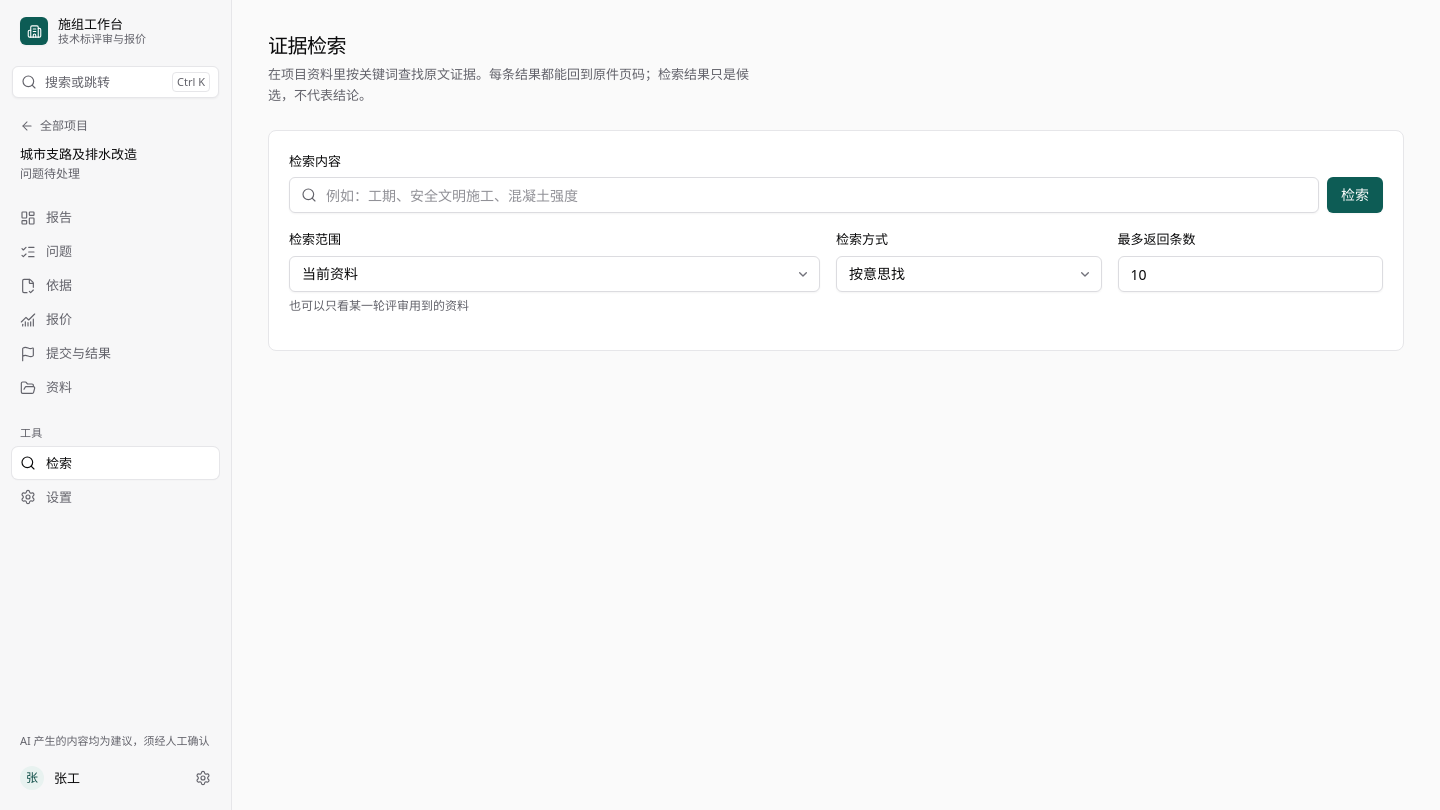
it: 证据检索页 › 空检索内容不发请求
Click the button "检索": (1355, 195) [1327,177,1383,213]
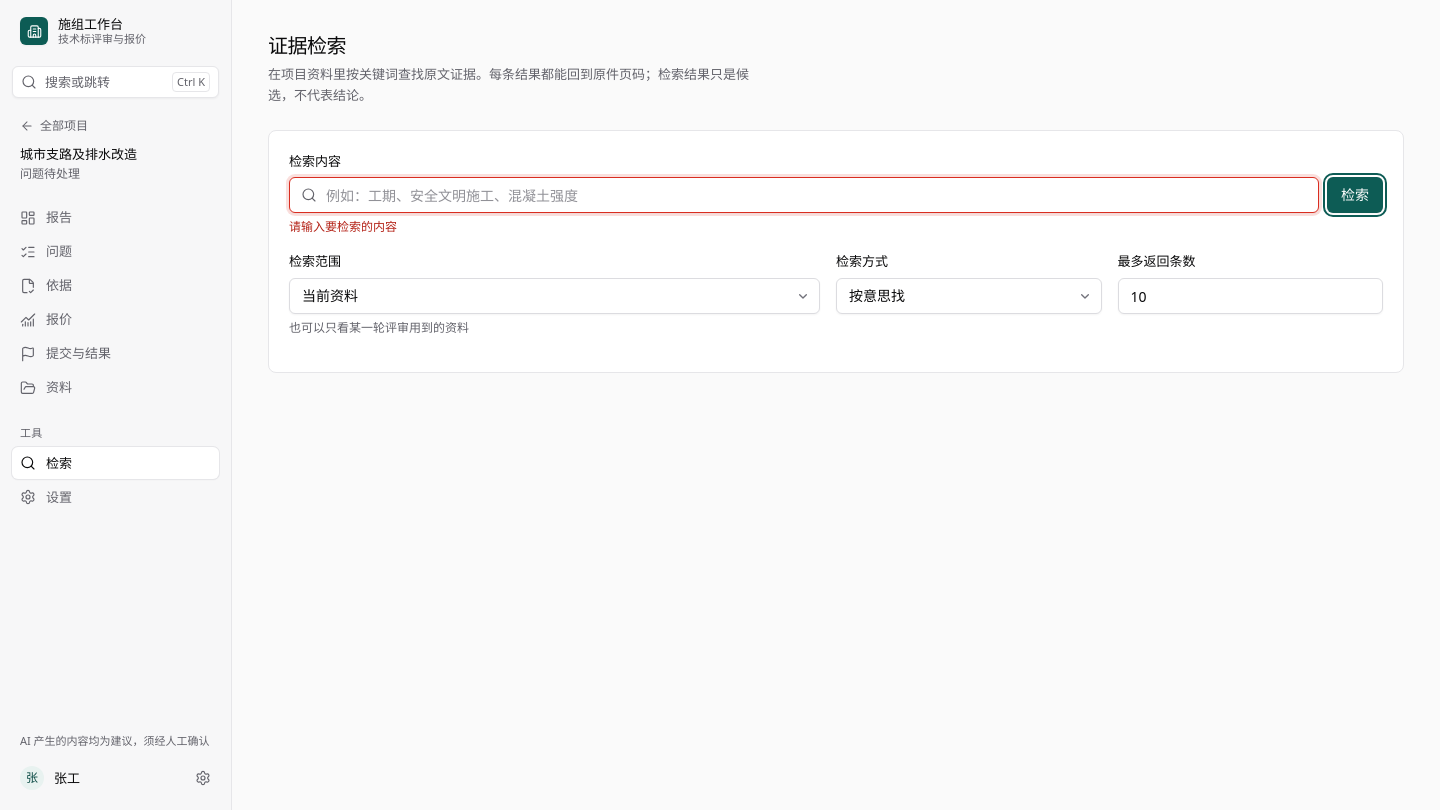
Expected: the text "请输入要检索的内容" is shown, [289,218,397,235]
